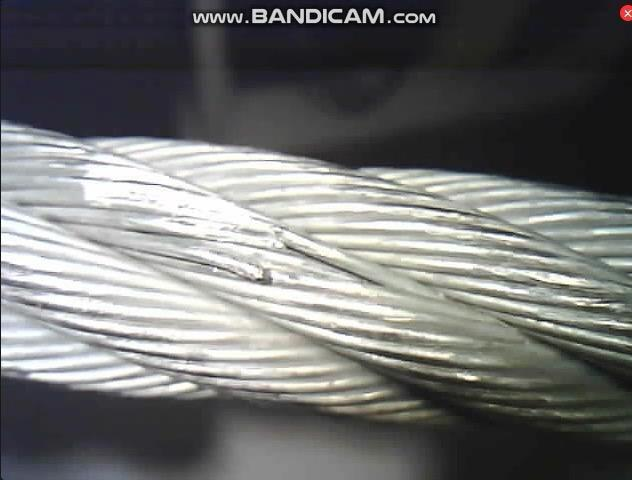break: (239, 221, 305, 287)
